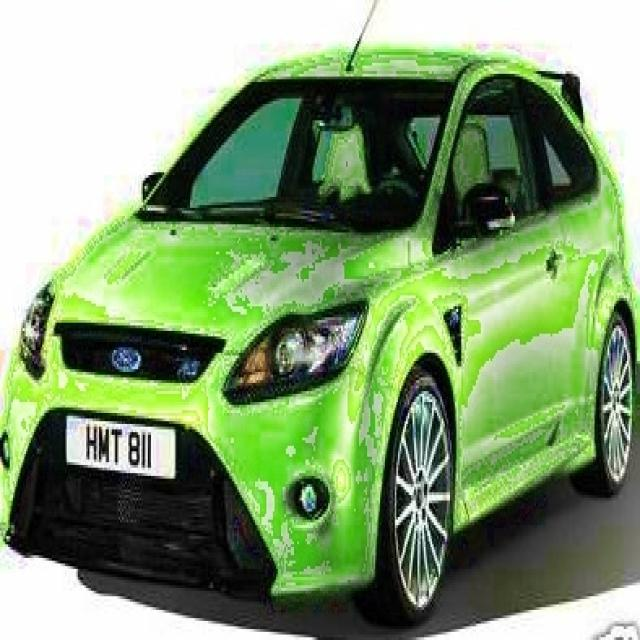green: (6, 29, 640, 595)
